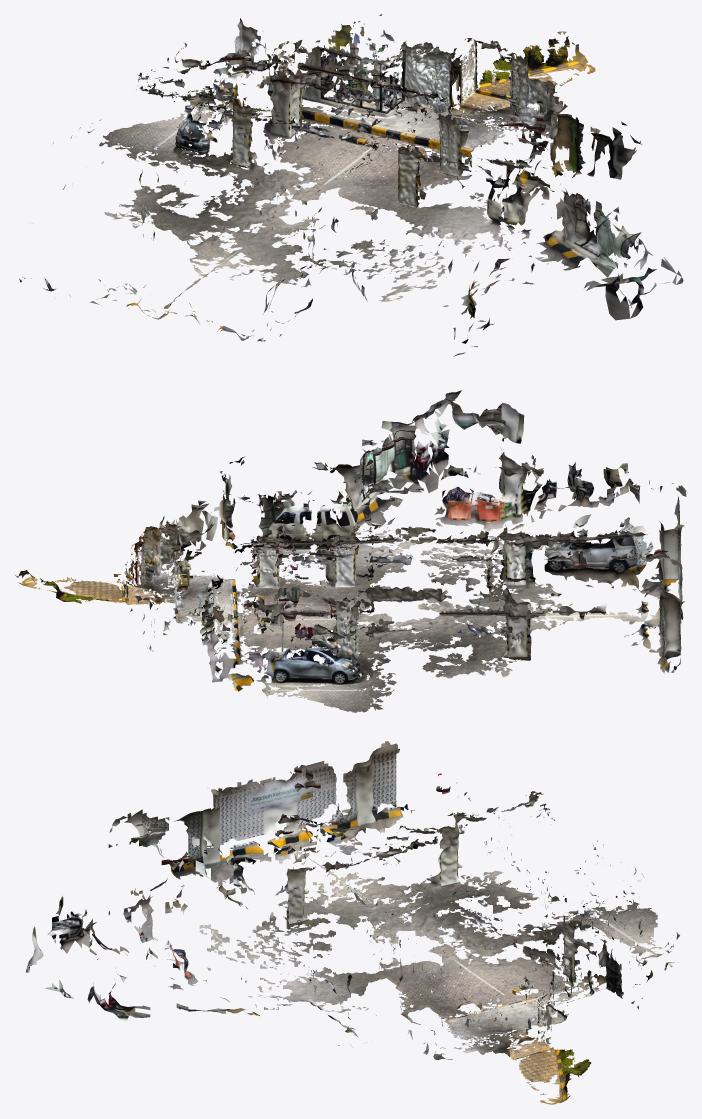
File: 134606-cobarsiayaniparkiran-tex.glb
The picture shows the model from 3 angles, top to bottom: view 1: azimuth 30°, elevation 25°; view 2: azimuth 150°, elevation 25°; view 3: azimuth 270°, elevation 25°; orthographic projection. The views are drawn at different scales.
Visible parts, largest first — view 1: Node; view 2: Node; view 3: Node.
Boxes of the visible parts, box(x1,y1,x2,y2) form: Node: box(19, 14, 683, 356); Node: box(14, 390, 687, 712); Node: box(26, 741, 679, 1104).
Bounding box in the file's own units: 26.91 × 4.31 × 25.56.
36 materials, 36 textured.
